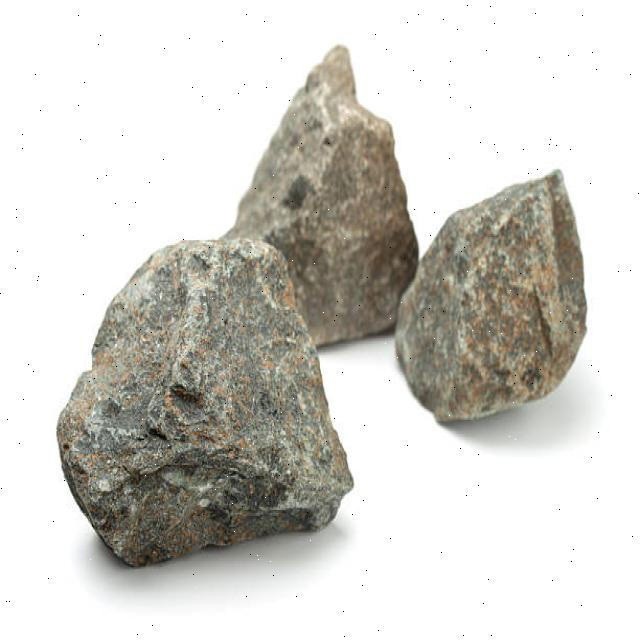Metamorphic: (58, 239, 354, 573), (214, 28, 413, 364), (386, 166, 597, 421)
